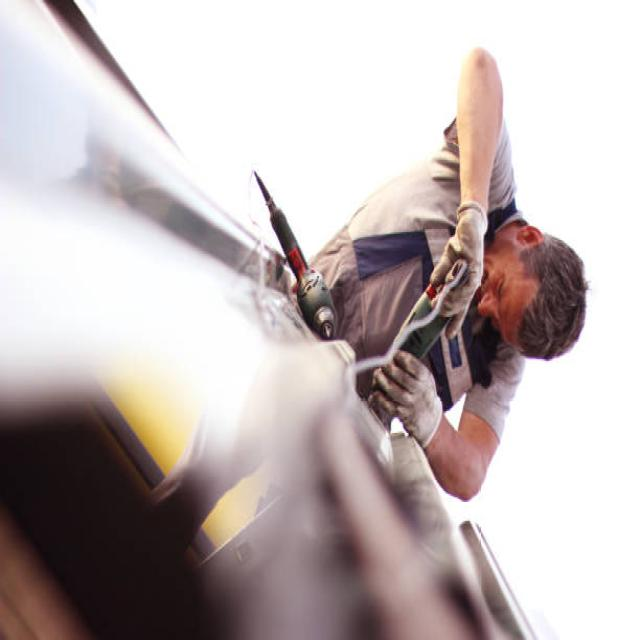gloves: (431, 202, 488, 338), (368, 350, 442, 453)
